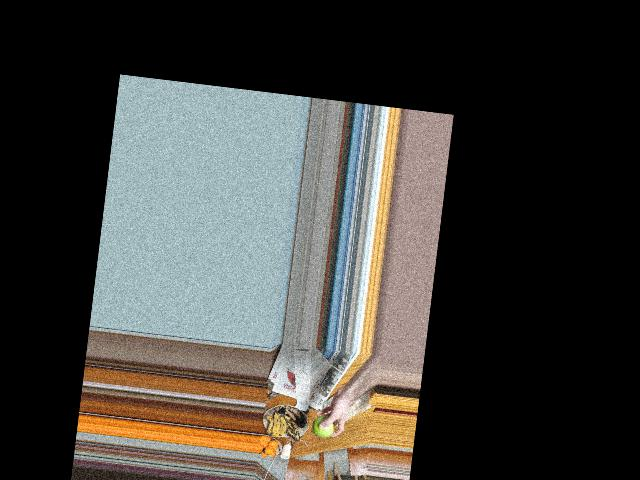apple: (311, 413, 335, 438)
